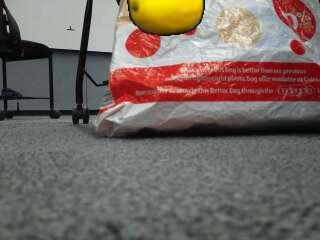lemon: (129, 0, 203, 35)
